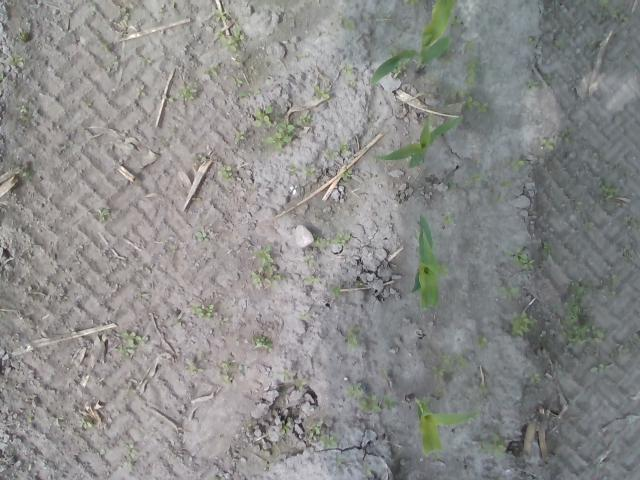Maize: (368, 2, 456, 85), (370, 113, 464, 171), (414, 398, 477, 457), (410, 211, 443, 310)
Weeds: (556, 286, 607, 344), (248, 243, 284, 287), (261, 122, 300, 150), (346, 382, 378, 413), (432, 352, 466, 378), (458, 91, 489, 114), (504, 248, 536, 270), (509, 311, 533, 340), (462, 56, 482, 84), (314, 232, 352, 246), (252, 104, 274, 128), (484, 433, 506, 456), (220, 359, 238, 385), (220, 28, 240, 50), (119, 332, 138, 355), (599, 0, 623, 18), (343, 326, 362, 348), (192, 304, 214, 318), (178, 85, 195, 102), (382, 392, 400, 408), (511, 160, 527, 176), (319, 434, 337, 448), (96, 207, 112, 222), (219, 164, 234, 180), (496, 286, 520, 296), (10, 54, 26, 68), (598, 186, 614, 200), (590, 362, 606, 376), (540, 137, 554, 152), (476, 335, 491, 349), (542, 239, 553, 258), (255, 336, 272, 348), (297, 114, 314, 125), (314, 86, 328, 99), (464, 174, 482, 184), (234, 129, 247, 142), (442, 211, 454, 225), (303, 275, 318, 286), (526, 78, 538, 91), (81, 417, 93, 429), (310, 426, 321, 439), (480, 382, 490, 396), (195, 231, 208, 241), (329, 286, 342, 296), (306, 165, 316, 177), (216, 10, 226, 22), (531, 374, 543, 384), (344, 20, 354, 30), (16, 105, 28, 113), (282, 421, 290, 433), (501, 180, 512, 188), (344, 66, 352, 76), (136, 88, 146, 96), (342, 171, 352, 178), (341, 144, 348, 153)
